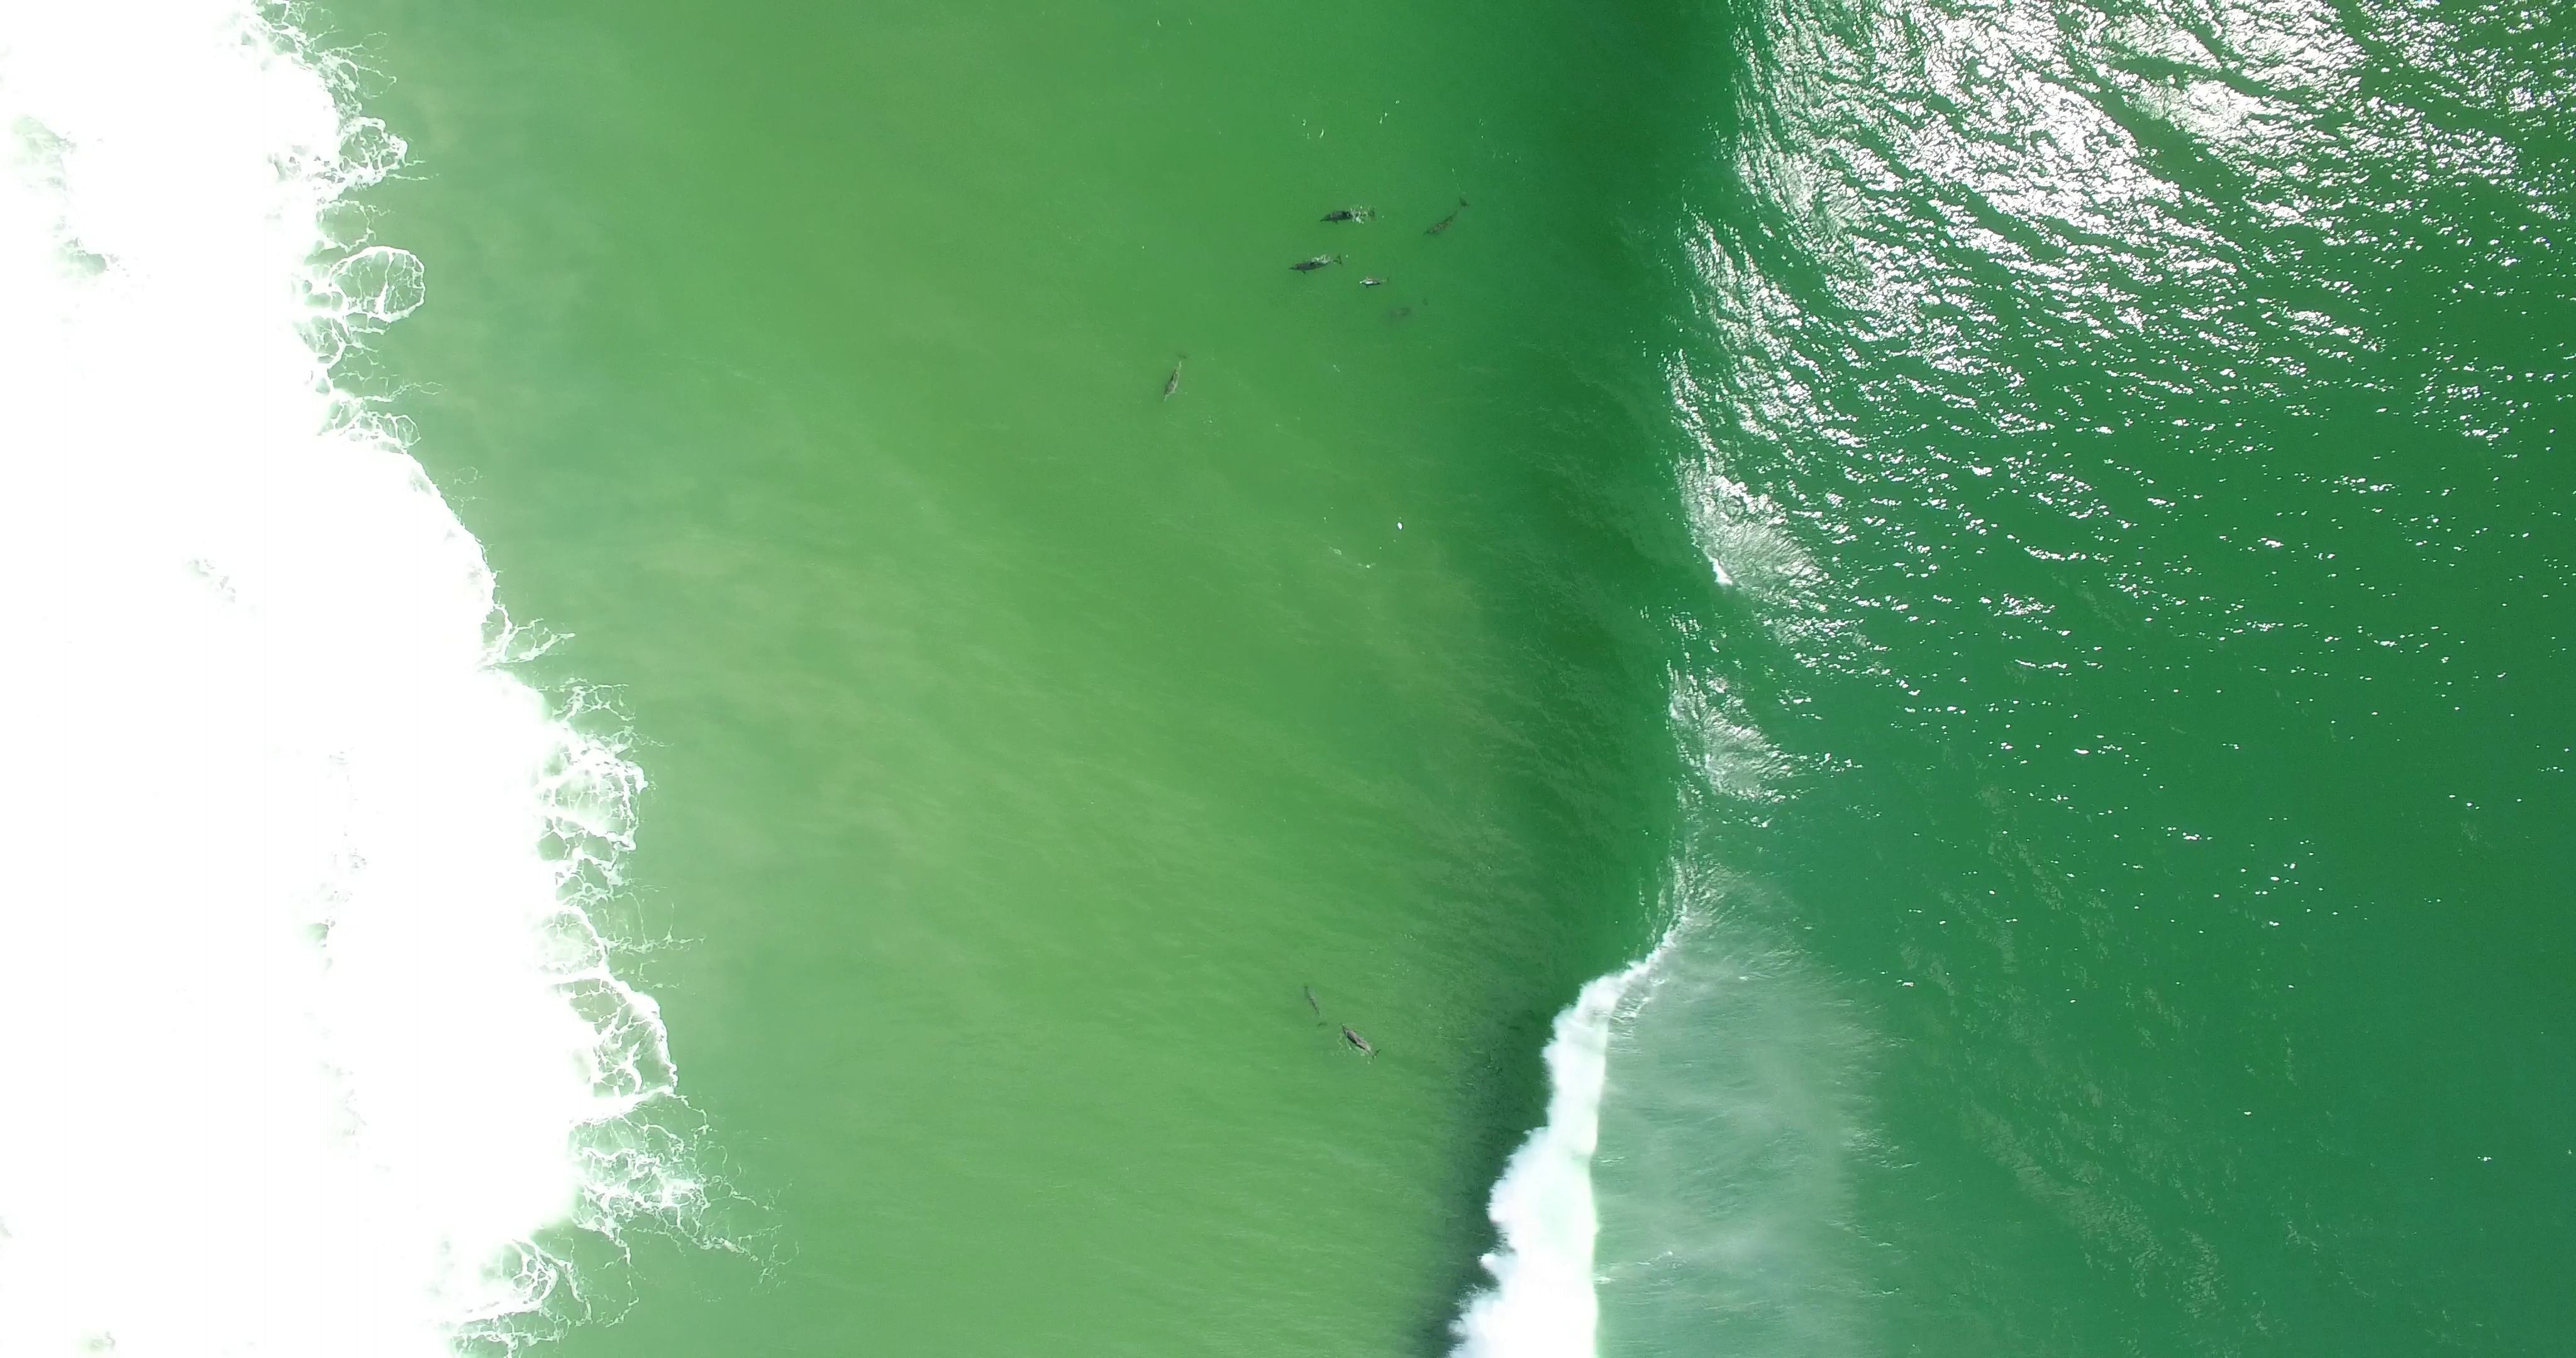dolphin: (1423, 193, 1472, 240), (1319, 198, 1387, 228), (1288, 247, 1351, 278), (1160, 351, 1189, 404), (1343, 1026, 1382, 1060), (1303, 983, 1331, 1026), (1385, 296, 1433, 319), (1358, 273, 1389, 290)
